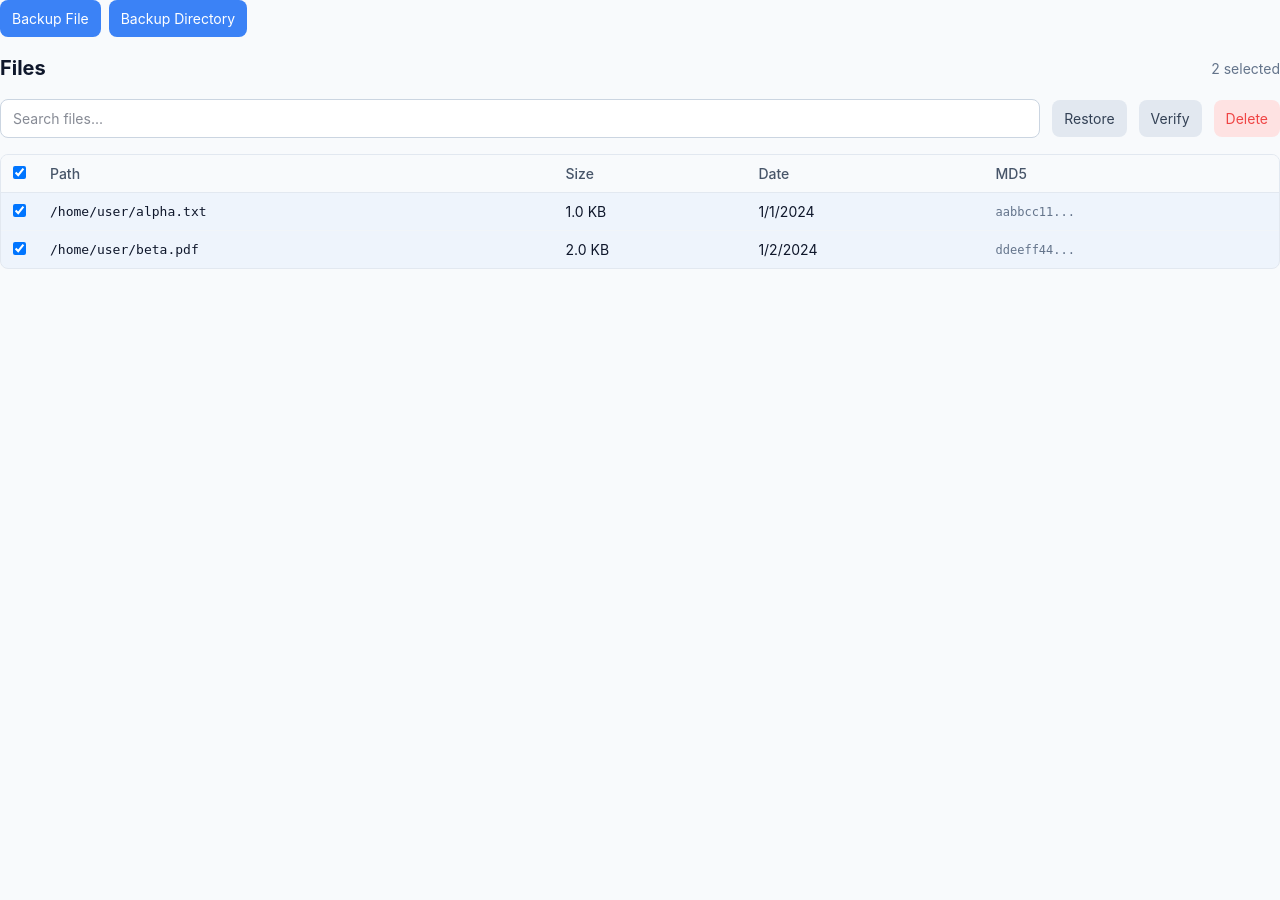
Files page — delete selected › shows a confirm modal before deleting
Expected: the text "/home/user/alpha.txt" is shown, [38, 192, 554, 230]
Click the button "Delete": [1247, 118] box [1214, 100, 1279, 137]
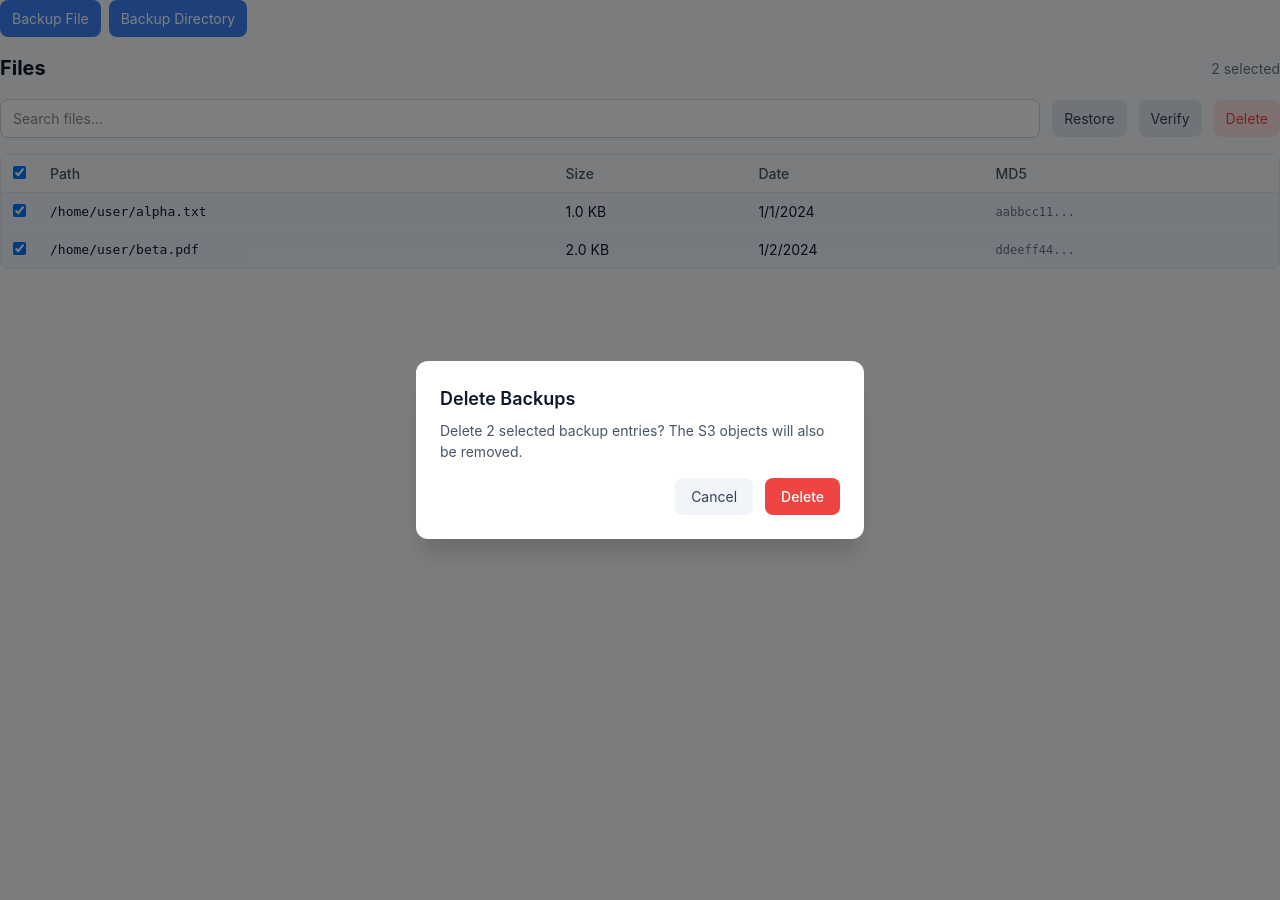
Expected: the heading "Delete Backups" is shown, [440, 388, 575, 409]
